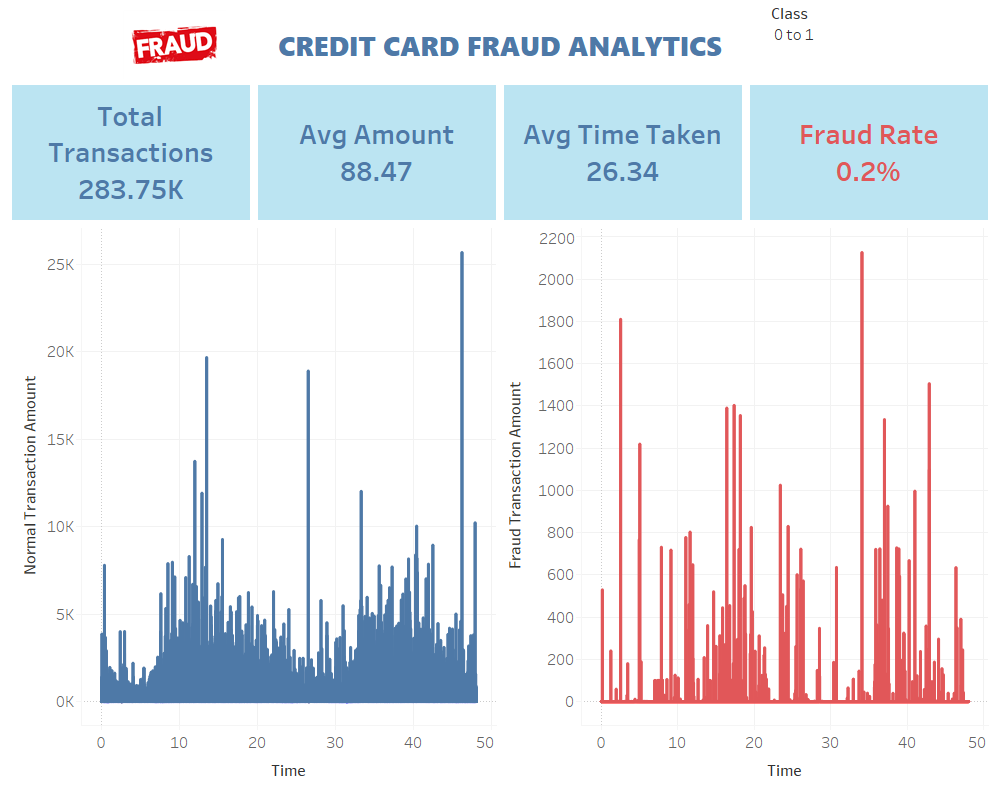

The dashboard page shown, as its layout file describes it:
{"tool":"tableau","page":{"name":"Credit Card Fraud Analytics","canvas":[1000,800],"ordinal":0},"visuals":[{"type":"filter","title":"Amount vs Time (Normal Transaction)","param":"[federated.1szqiko1dhh5c914ed1sr0ssedtw].[none:Class:qk]","box":[771,2,220,74]},{"type":"text","box":[8,8,984,73]},{"type":"image","param":"D:/Data Analytics/DATA SCIENCE PROJECT-Credit Card Fraud Detection (ML Project-C","box":[74,10,201,69]},{"type":"worksheet","title":"Total No.of Transactions","mark":"Automatic","box":[8,81,246,143]},{"type":"worksheet","title":"Average Transaction Amount","mark":"Automatic","box":[254,81,246,143]},{"type":"worksheet","title":"Average Time for Transactions","mark":"Automatic","box":[500,81,246,143]},{"type":"worksheet","title":"Fraud Rate","mark":"Automatic","box":[746,81,246,143]},{"type":"worksheet","title":"Amount vs Time (Normal Transaction)","mark":"Line","rows":["Calculation_600104665745715205"],"cols":["Time"],"box":[8,224,492,568]},{"type":"worksheet","title":"Amount vs Time in (Fraud Transaction)","mark":"Automatic","rows":["Calculation_600104665745567748"],"cols":["Time"],"box":[500,224,492,568]}]}

Visuals, with their boxes in screenshot pixels (x1, y1, x2, y2), scaled from the page's 1000x800 canvas onto the 1000x800 screenshot:
"Amount vs Time (Normal Transaction)" filter: (771,2,991,76)
text: (8,8,992,81)
image: (74,10,275,79)
"Total No.of Transactions" worksheet: (8,81,254,224)
"Average Transaction Amount" worksheet: (254,81,500,224)
"Average Time for Transactions" worksheet: (500,81,746,224)
"Fraud Rate" worksheet: (746,81,992,224)
"Amount vs Time (Normal Transaction)" worksheet (Line marks): (8,224,500,792)
"Amount vs Time in (Fraud Transaction)" worksheet: (500,224,992,792)
